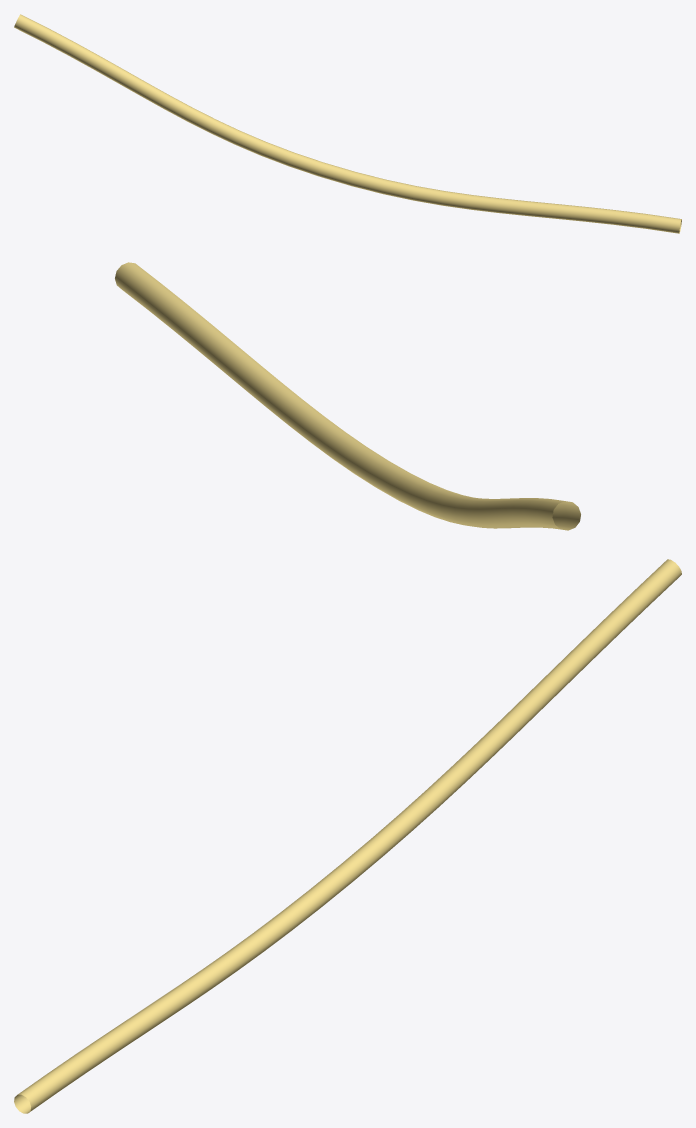
3 renders of one model, top to bottom at view 1: azimuth 30°, elevation 25°; view 2: azimuth 150°, elevation 25°; view 3: azimuth 270°, elevation 25°, orthographic. The views are drawn at different scales.
Parts seen in each view (by area): view 1: ZA_b42bfba0c9a58d88; view 2: ZA_b42bfba0c9a58d88; view 3: ZA_b42bfba0c9a58d88.
Boxes of the visible parts, box(x1,y1,x2,y2) form: ZA_b42bfba0c9a58d88: box(14, 14, 681, 233); ZA_b42bfba0c9a58d88: box(115, 262, 580, 530); ZA_b42bfba0c9a58d88: box(14, 559, 681, 1113).
Bounding box in the file's own units: 0.0349 × 0.0121 × 0.0306.
